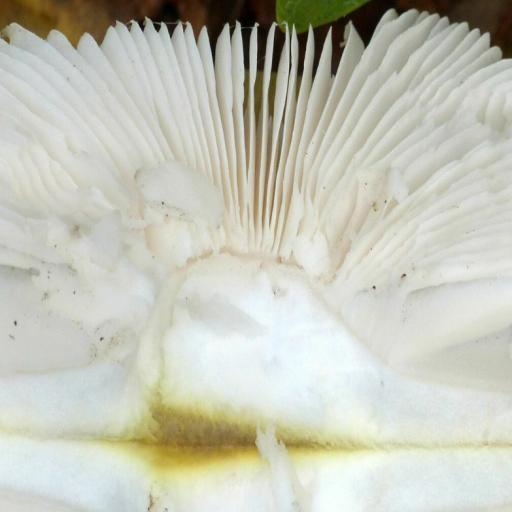Death Cap: (0, 7, 511, 511)
